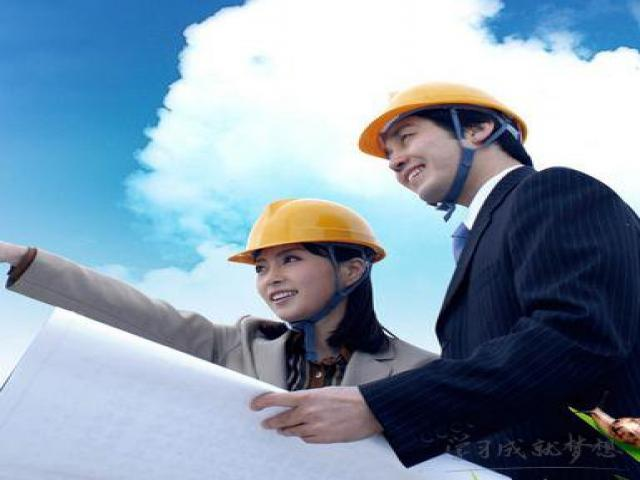Helmet: (351, 76, 531, 163), (222, 192, 389, 271)
